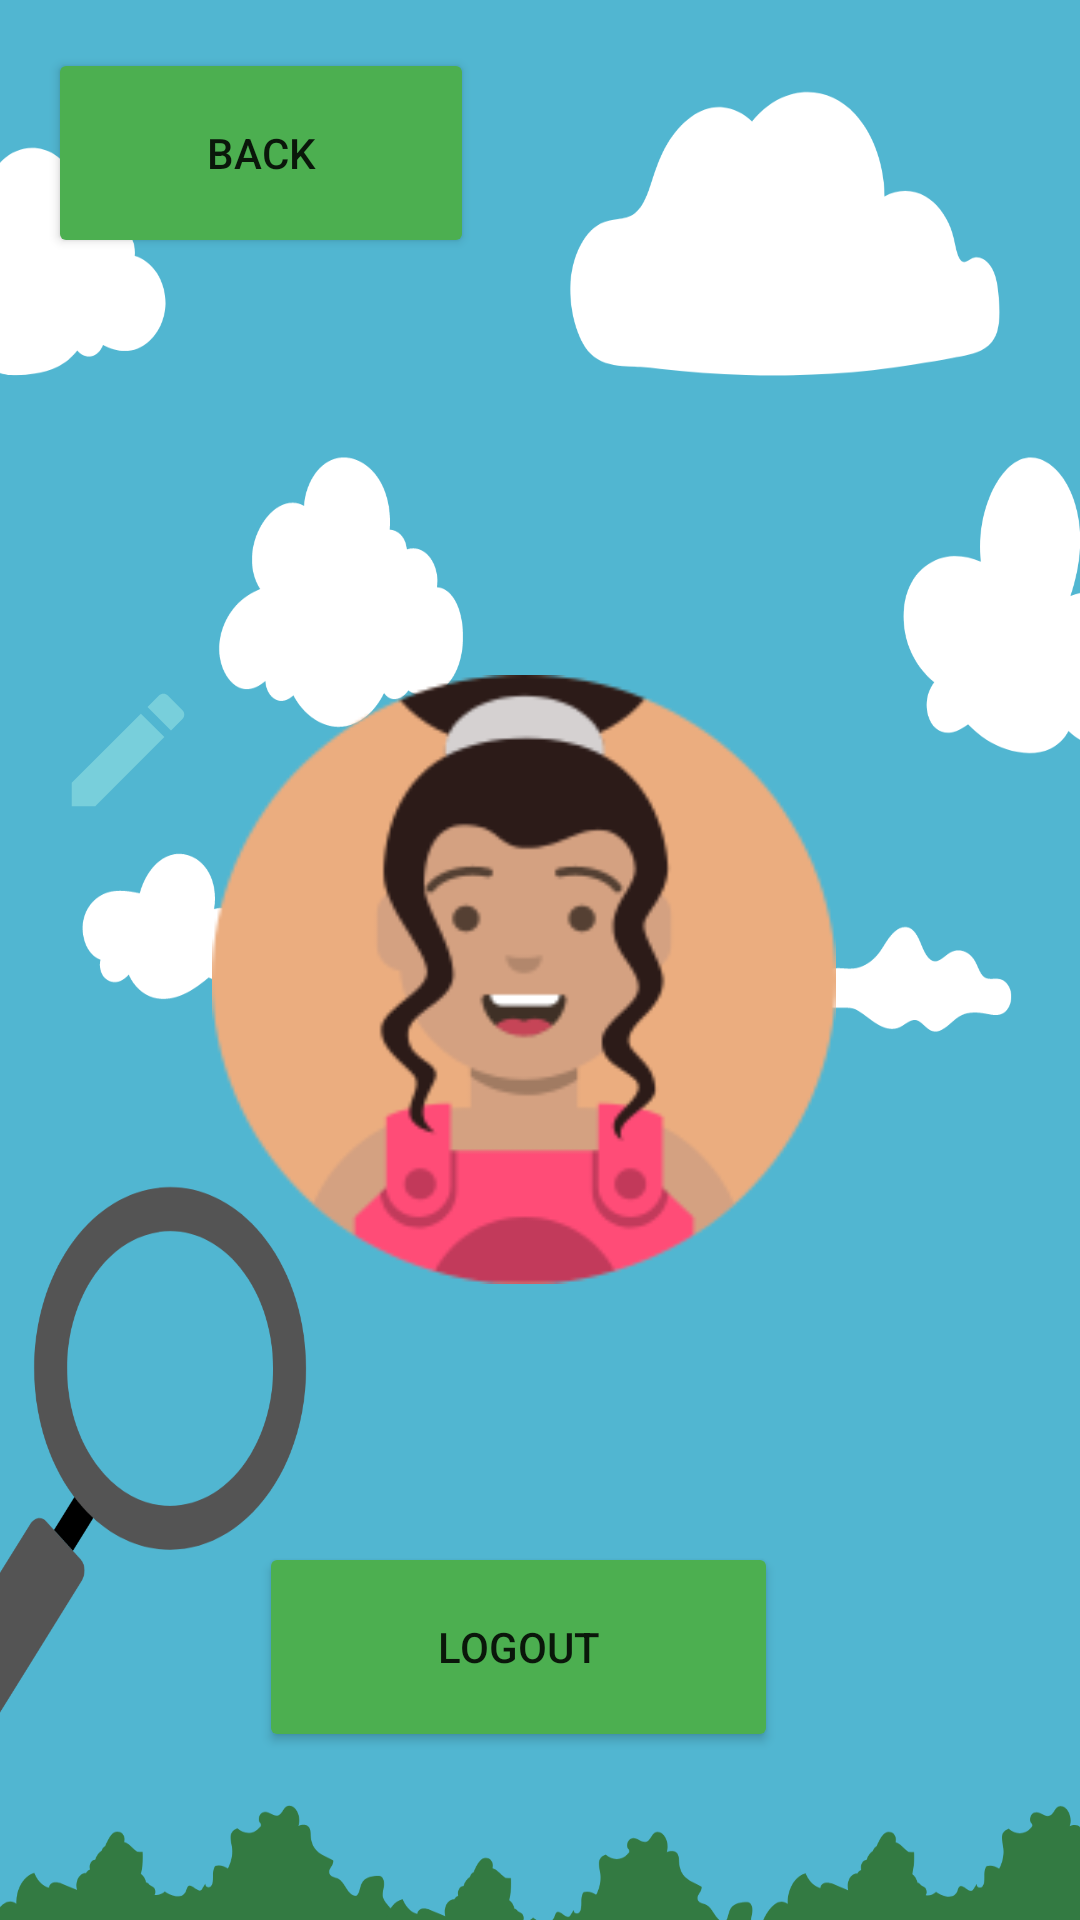

Locate icon controls on the screen. Image size 1080 x 1920, boxes as {"left": x1, "top": y1, "right": x2, "bottom": y2}.
edit: {"left": 72, "top": 694, "right": 184, "bottom": 806}
